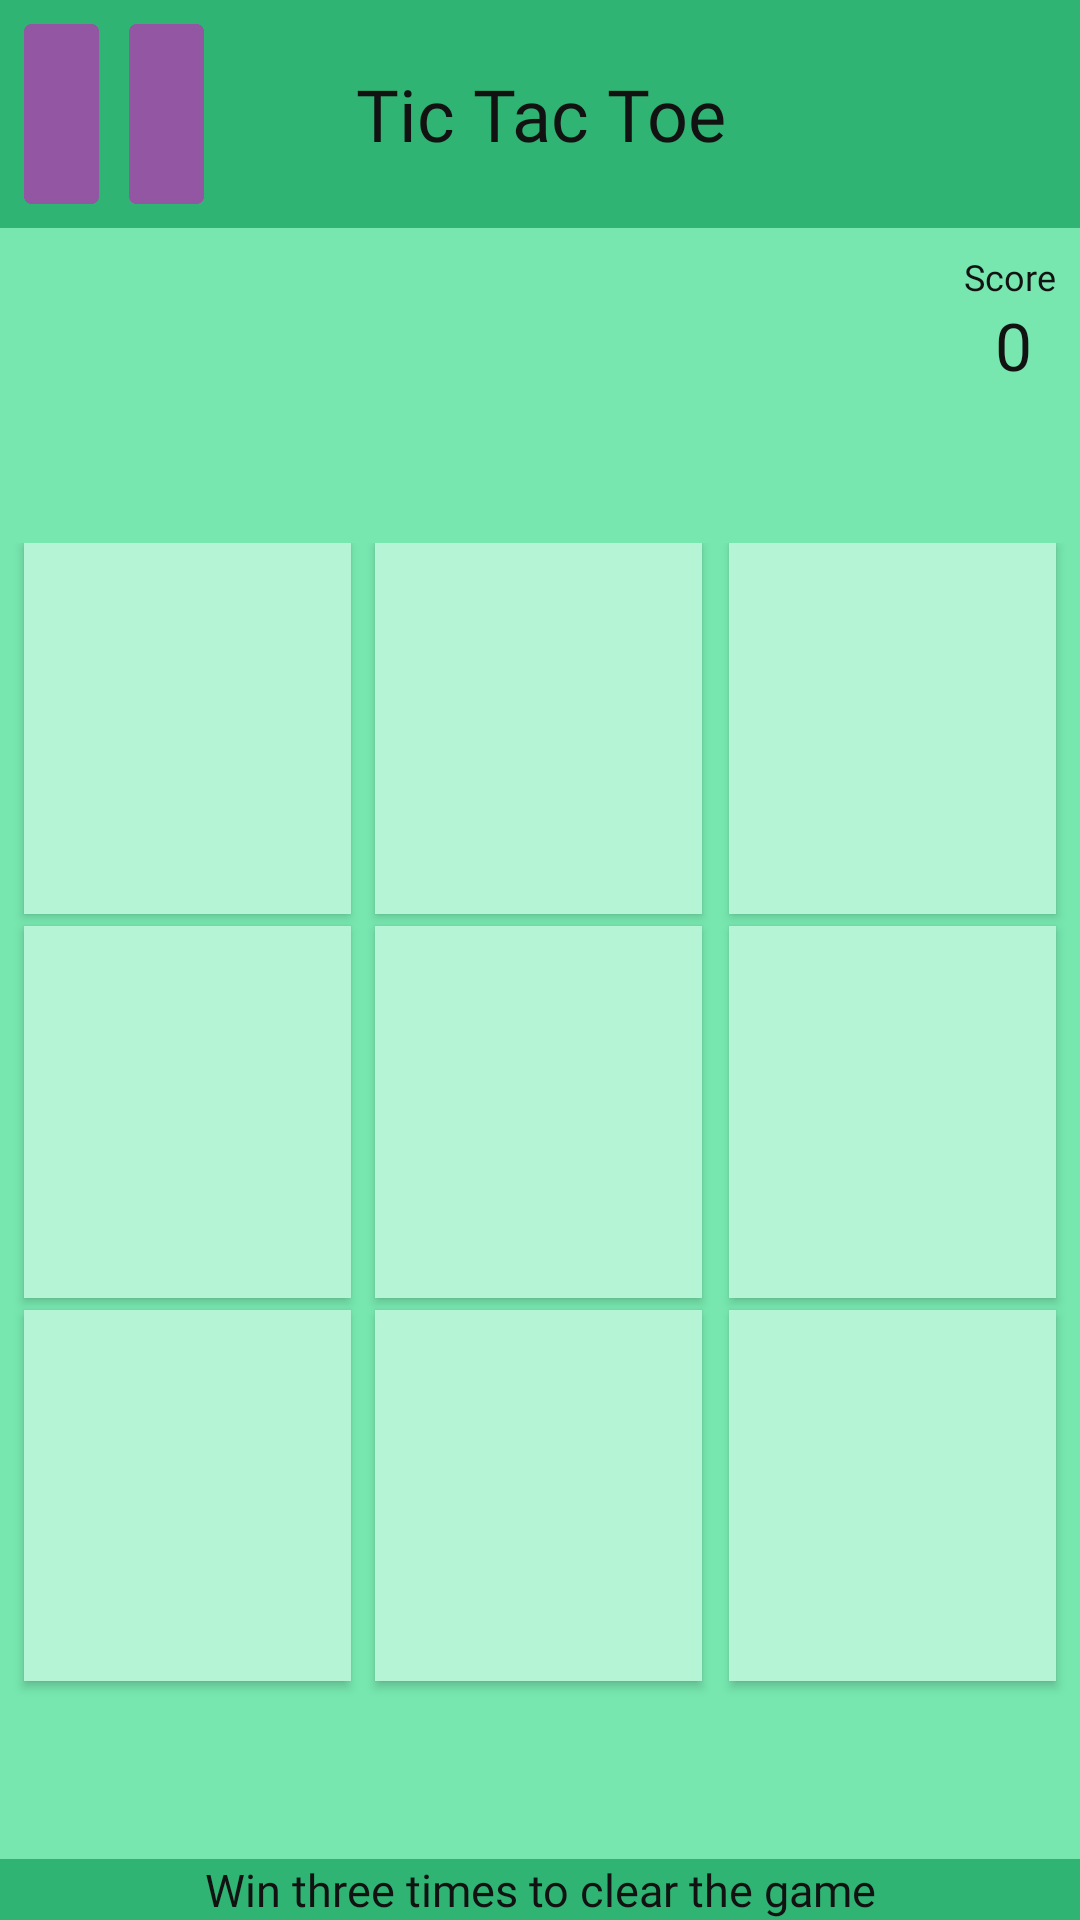

Icon click points for this 1080*1920 phone screenshot, format (x,y):
pause: (114,114)
